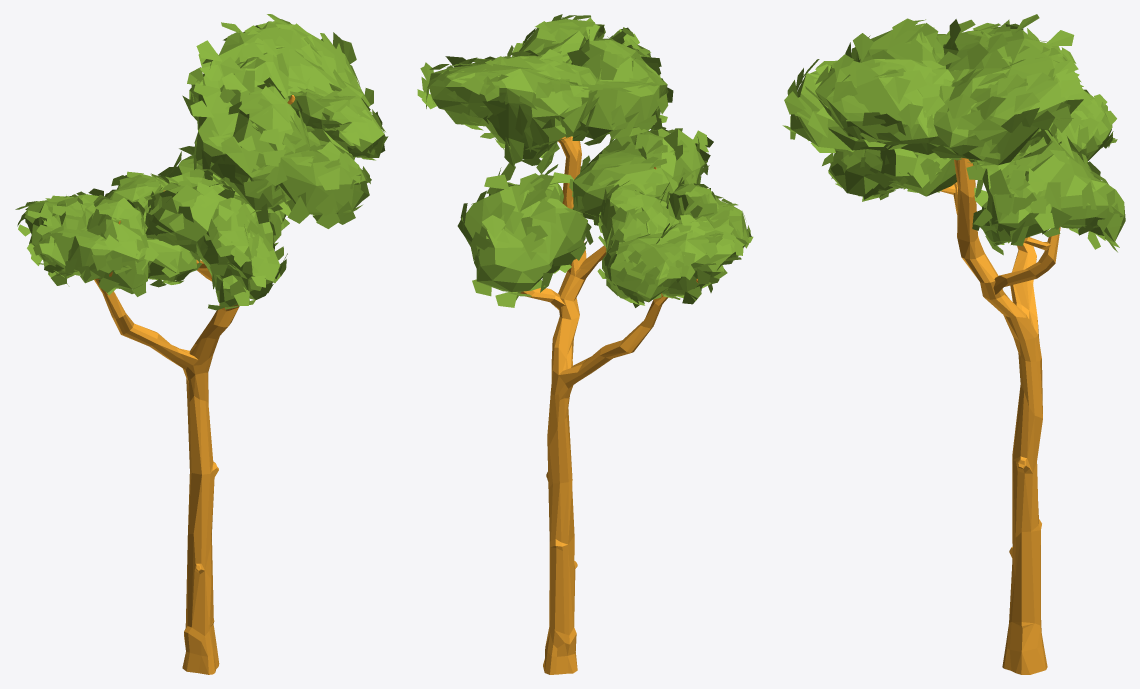
File: SM_Tree_Japanese_Pagoda_B.fbx
The picture shows the model from 3 angles, left to right: view 1: azimuth 30°, elevation 25°; view 2: azimuth 150°, elevation 25°; view 3: azimuth 270°, elevation 25°; orthographic projection. The views are drawn at different scales.
Visible parts, largest first — view 1: SM_Tree_Japanese_Pagoda_B; view 2: SM_Tree_Japanese_Pagoda_B; view 3: SM_Tree_Japanese_Pagoda_B.
Boxes of the visible parts, x1,y1,x2,y2 form: SM_Tree_Japanese_Pagoda_B: (15,14,388,674); SM_Tree_Japanese_Pagoda_B: (417,14,753,674); SM_Tree_Japanese_Pagoda_B: (782,14,1125,674).
Size of the model in its own units: 8.65 by 15.78 by 7.44.
